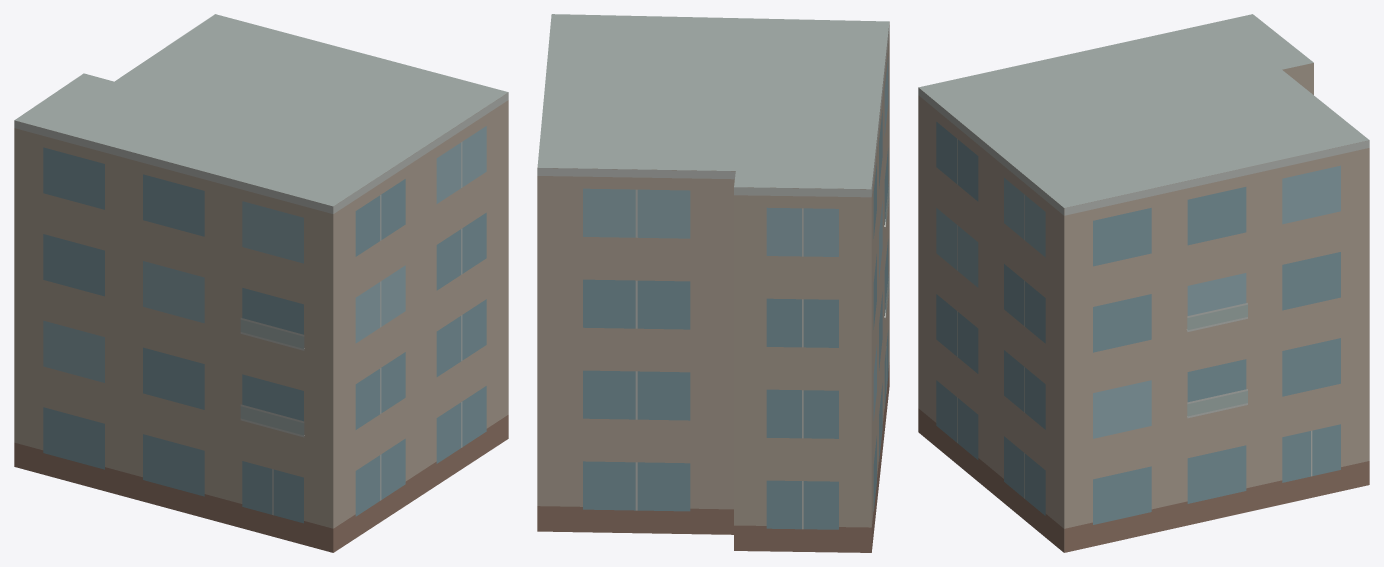
File: survey-upis-32949973.glb
3 renders of one model, left to right at view 1: azimuth 30°, elevation 25°; view 2: azimuth 150°, elevation 25°; view 3: azimuth 270°, elevation 25°, orthographic. The views are drawn at different scales.
Visible parts, largest first — view 1: survey-upis-32949973.tmp; view 2: survey-upis-32949973.tmp; view 3: survey-upis-32949973.tmp.
Boxes of the visible parts, x1,y1,x2,y2 form: survey-upis-32949973.tmp: (14,14,508,552); survey-upis-32949973.tmp: (537,14,889,552); survey-upis-32949973.tmp: (918,14,1369,552).
Size of the model in its own units: 13.19 by 10.92 by 12.96.
